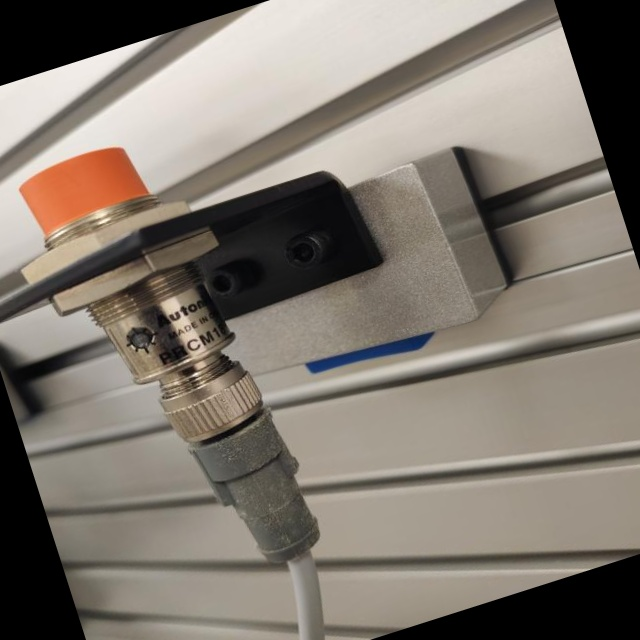inductive sensor: (0, 35, 584, 636)
